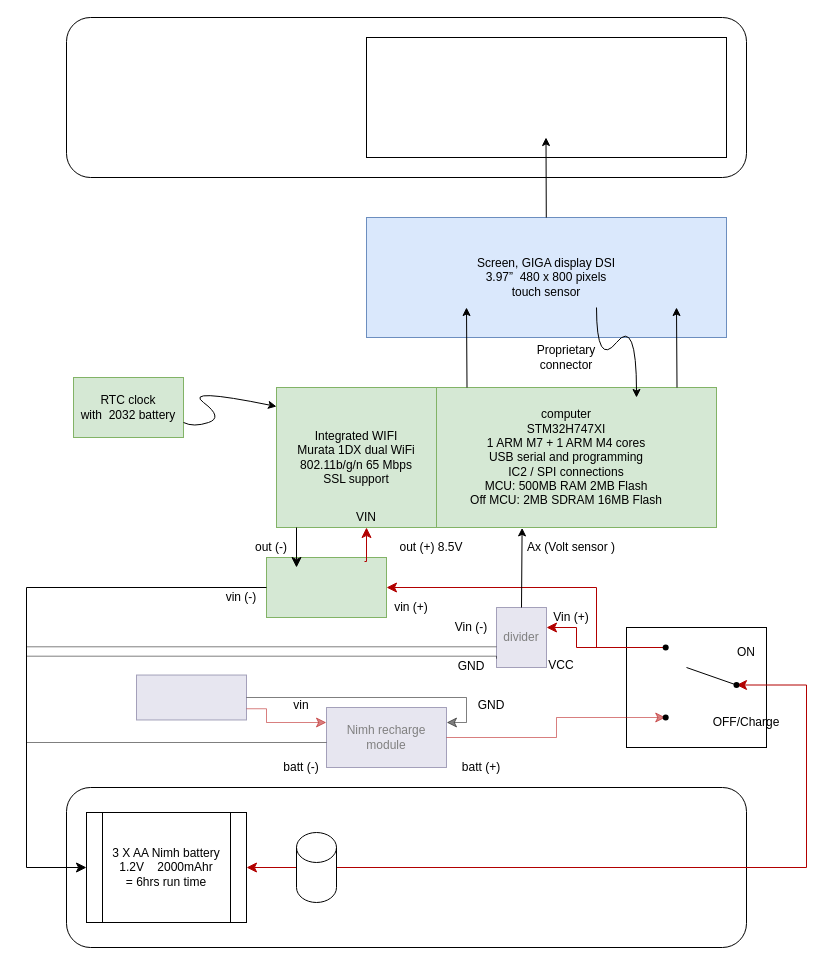
Some shapes in this 835 by 965 pixel diagram are drawn without their labels. The centre of each missing label's shape, as x and y in pixels:
2A fuse: point (316, 867)
2A power booster: point (326, 587)
USBC charge connector: point (191, 697)
